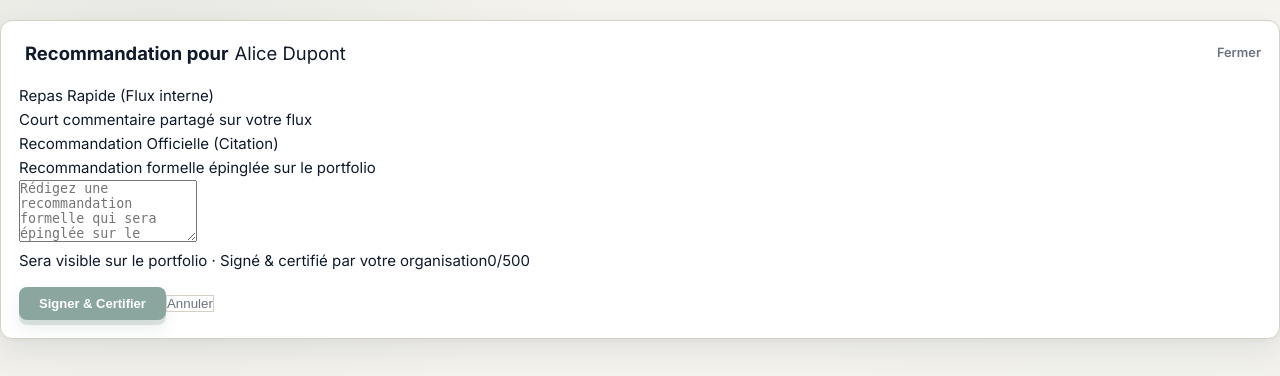
RecommendationForm.vue — Tests d'Intégration › 13 — le compteur se met à jour en temps réel
Step 1. Replace the text in the text box with class "rec-textarea" with "Bonjour" → (108, 211), box [19,180,197,242]
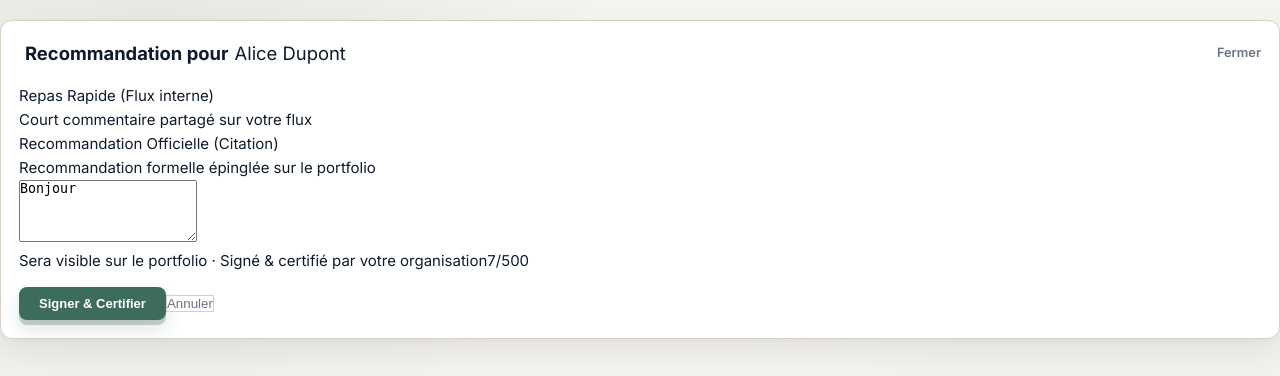
Check: the text with class "rec-char-count" reads "7/500", box [487,251,529,270]
